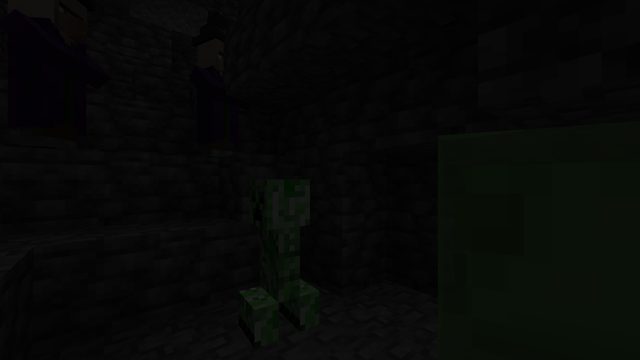creepers: (242, 171, 316, 348)
slimes: (403, 117, 631, 355)
sorcieres: (4, 0, 84, 151), (194, 29, 241, 158)
